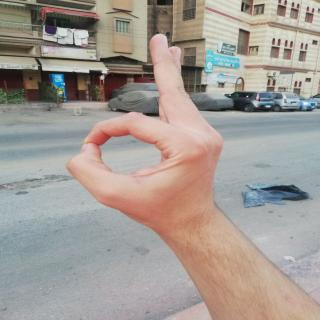Space: (66, 28, 232, 220)
